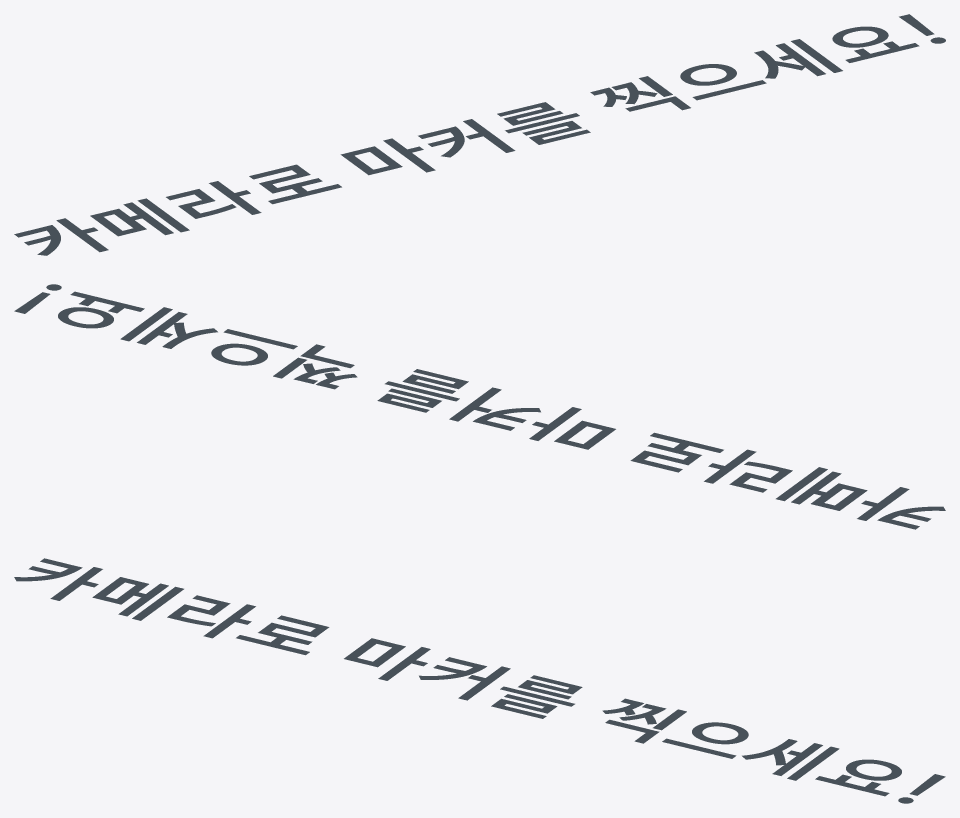
Rendered from markerUI.fbx.
3 views of the same model, one above another, from view 1: azimuth 30°, elevation 25°; view 2: azimuth 150°, elevation 25°; view 3: azimuth 330°, elevation 25° (orthographic).
Parts seen in each view (by area): view 1: Text; view 2: Text; view 3: Text.
Boxes of the visible parts, x1,y1,x2,y2 form: Text: (14,14,945,255); Text: (14,284,945,529); Text: (14,558,945,803).
Bounding box in the file's own units: 960 × 1.32e-05 × 80.75.
